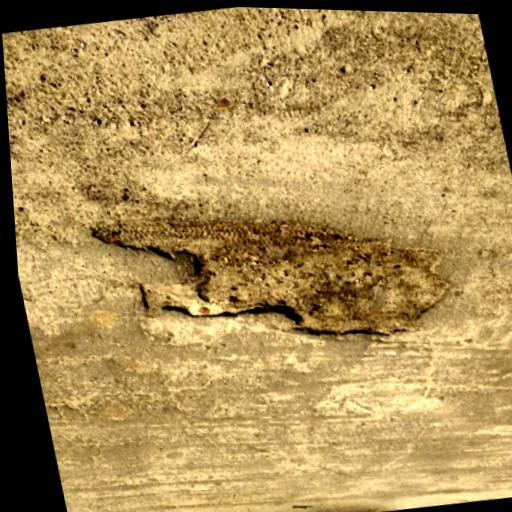pothole: (79, 172, 468, 382)
